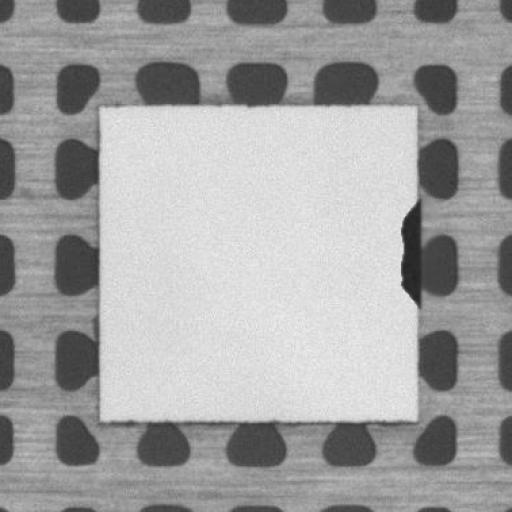DIE_BROKEN: (394, 198, 423, 302)
